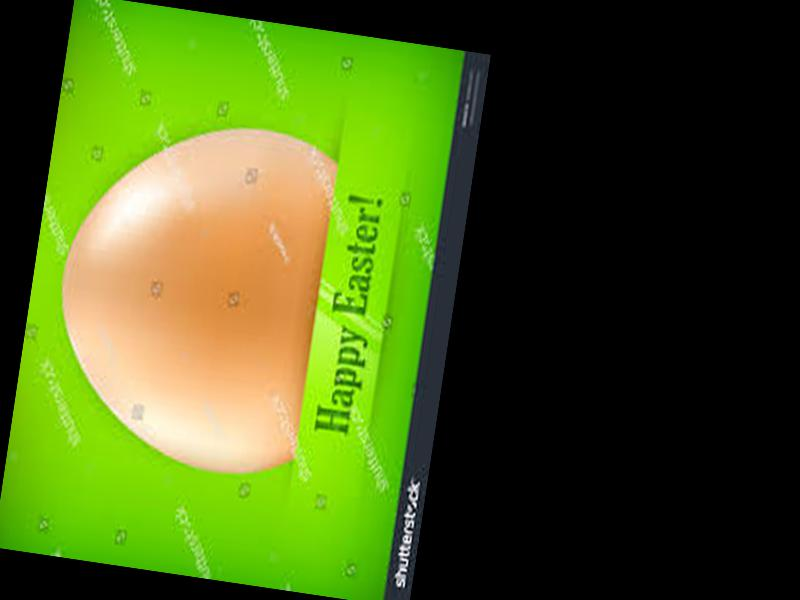Eggs: (38, 104, 340, 481)
